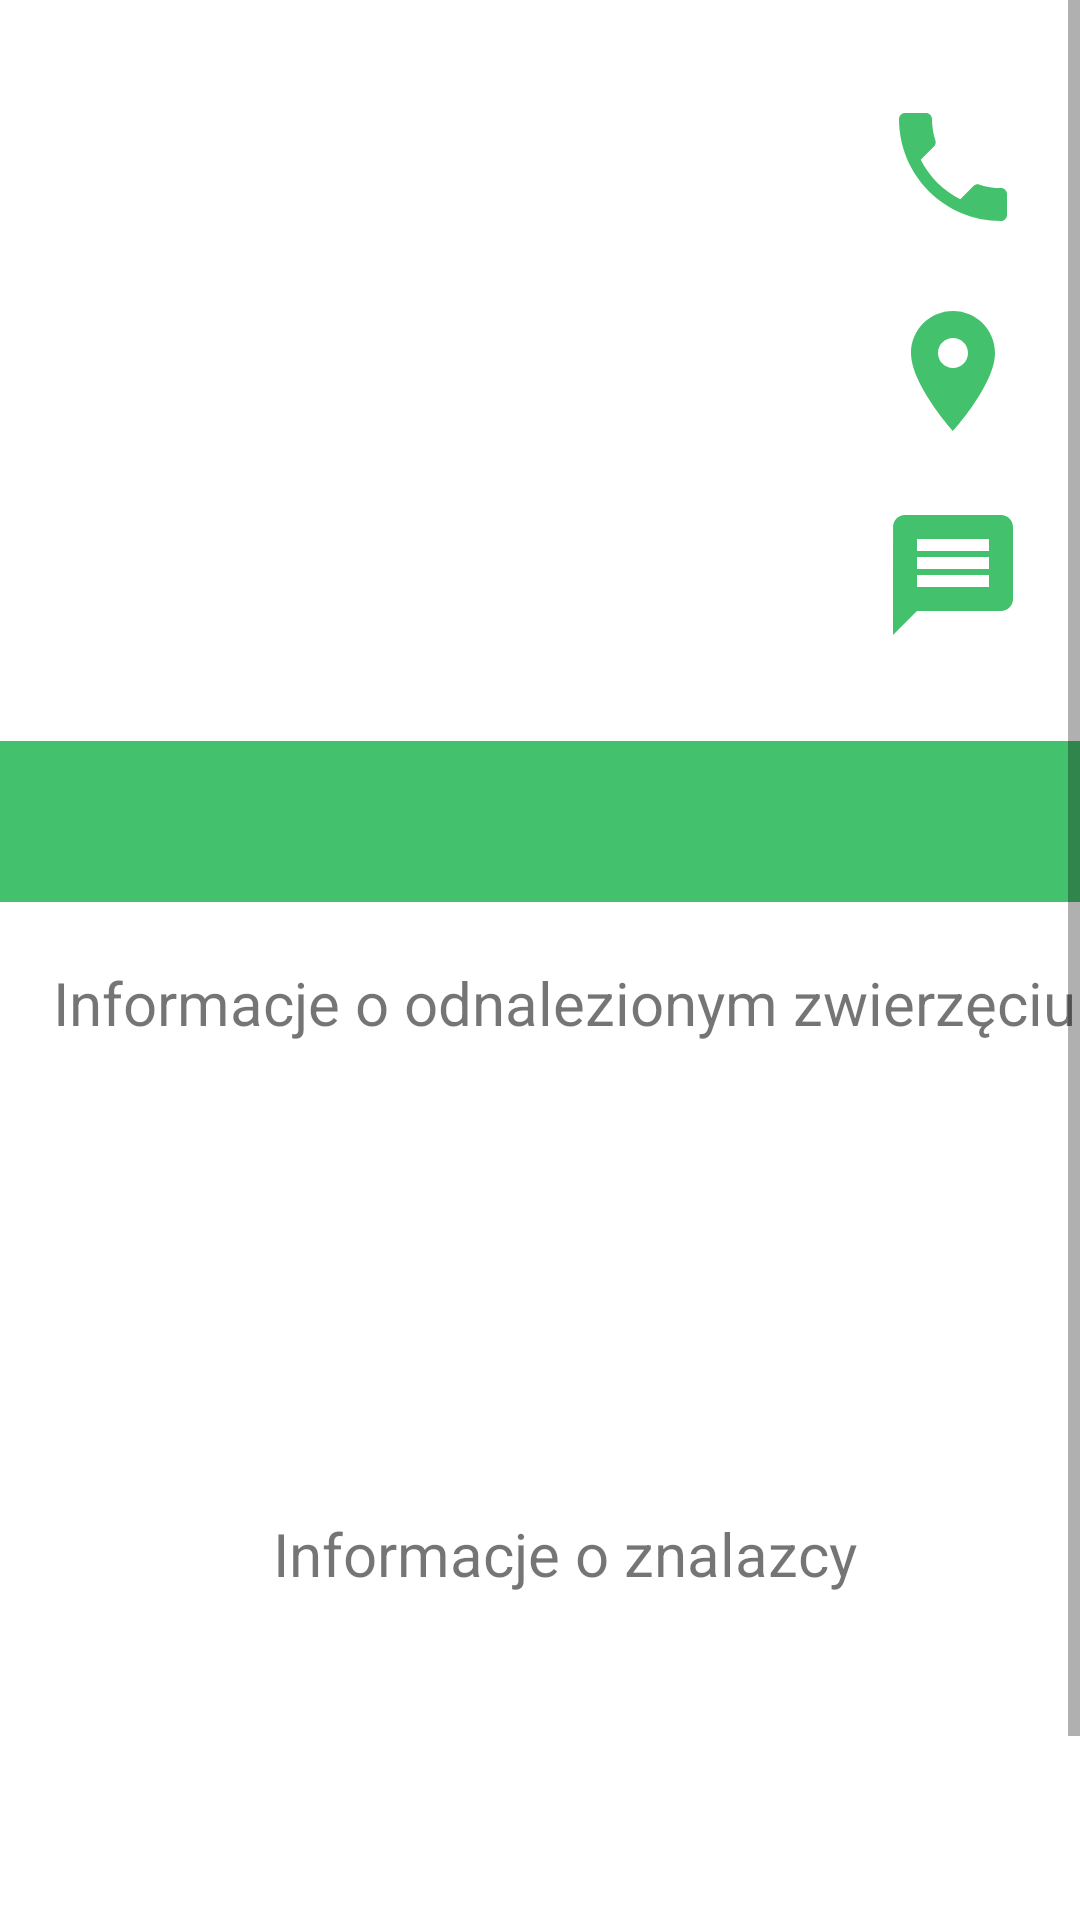

Screen size 1080x1920. Icon name, then its center in pixels as (x=x, y=y):
Chat icon: (x=953, y=575)
local phone: (x=953, y=167)
location on: (x=953, y=371)
